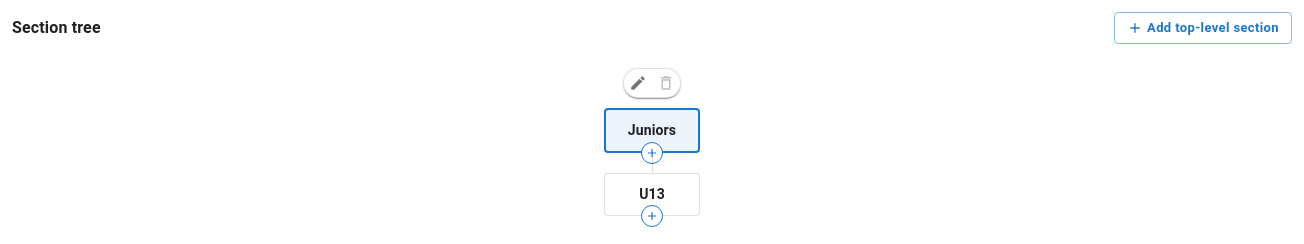
Test case: SectionTreeEditor › disables remove (with an explanatory tooltip) for a selected node that has an active child
Hover over the element named "Remove Juniors": (666, 83) x1=652 y1=69 x2=680 y2=97
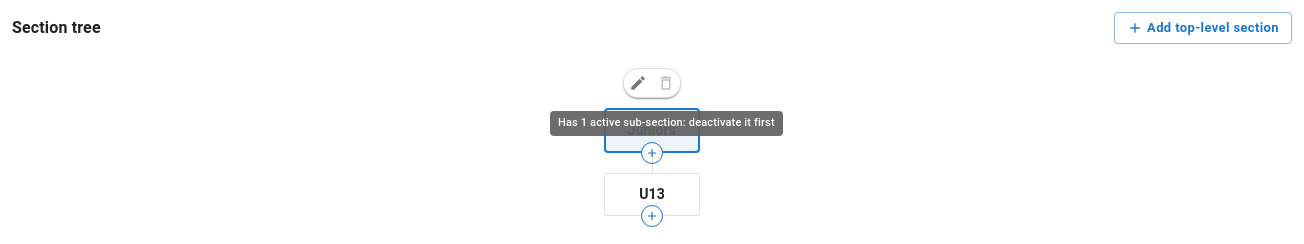
Expected: the text "Has 1 active sub-section: deactivate it first" is shown, x1=550 y1=111 x2=783 y2=136
